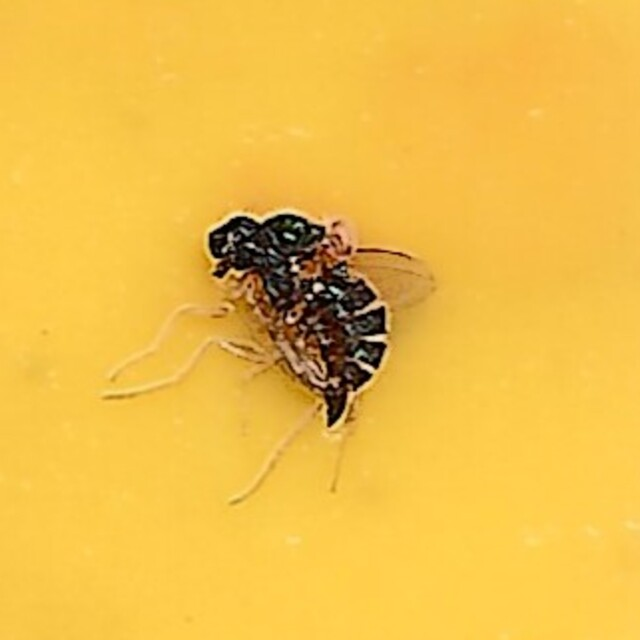Brachycera: (199, 199, 441, 441)
